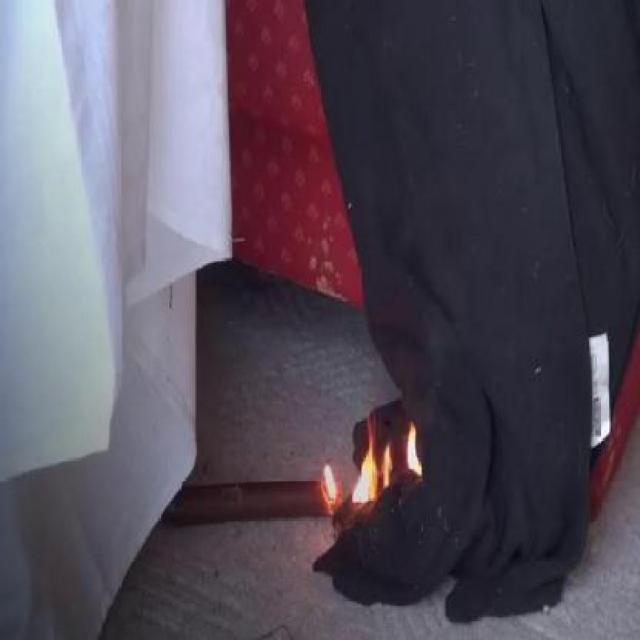fire: (310, 390, 428, 510)
